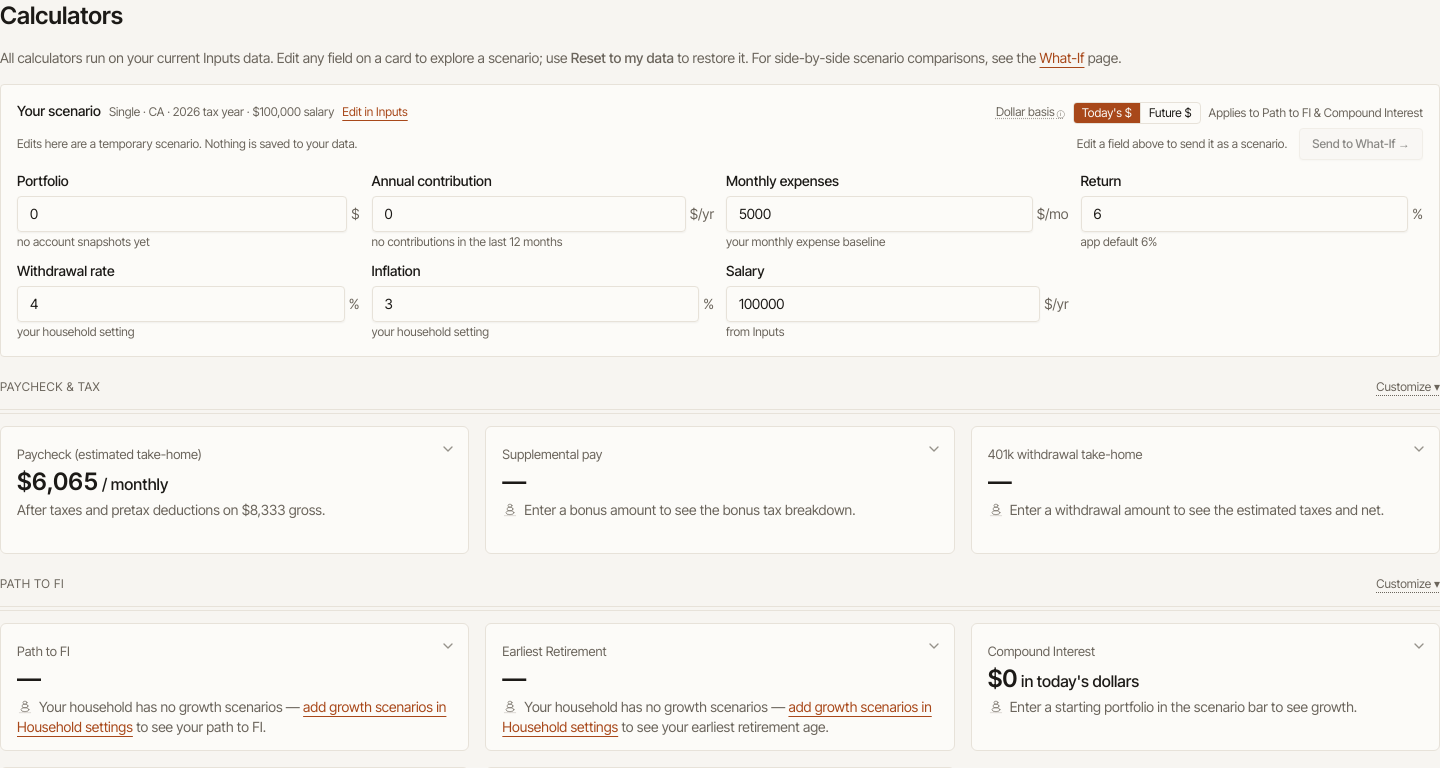
Scenario: CalculatorsLayout › per-section Customize (replaces Manage cards — D11/D12) › disables the Overtime row with a reason when no hourly/OT person exists (W10 survives)
The image size is (1440, 768).
Expected: the element with test id "calc-card-paycheck" is shown, [0,426,469,554]
Click the button with aria-label "customize paycheck & tax" at (1408,386), box [1376,378,1439,394]
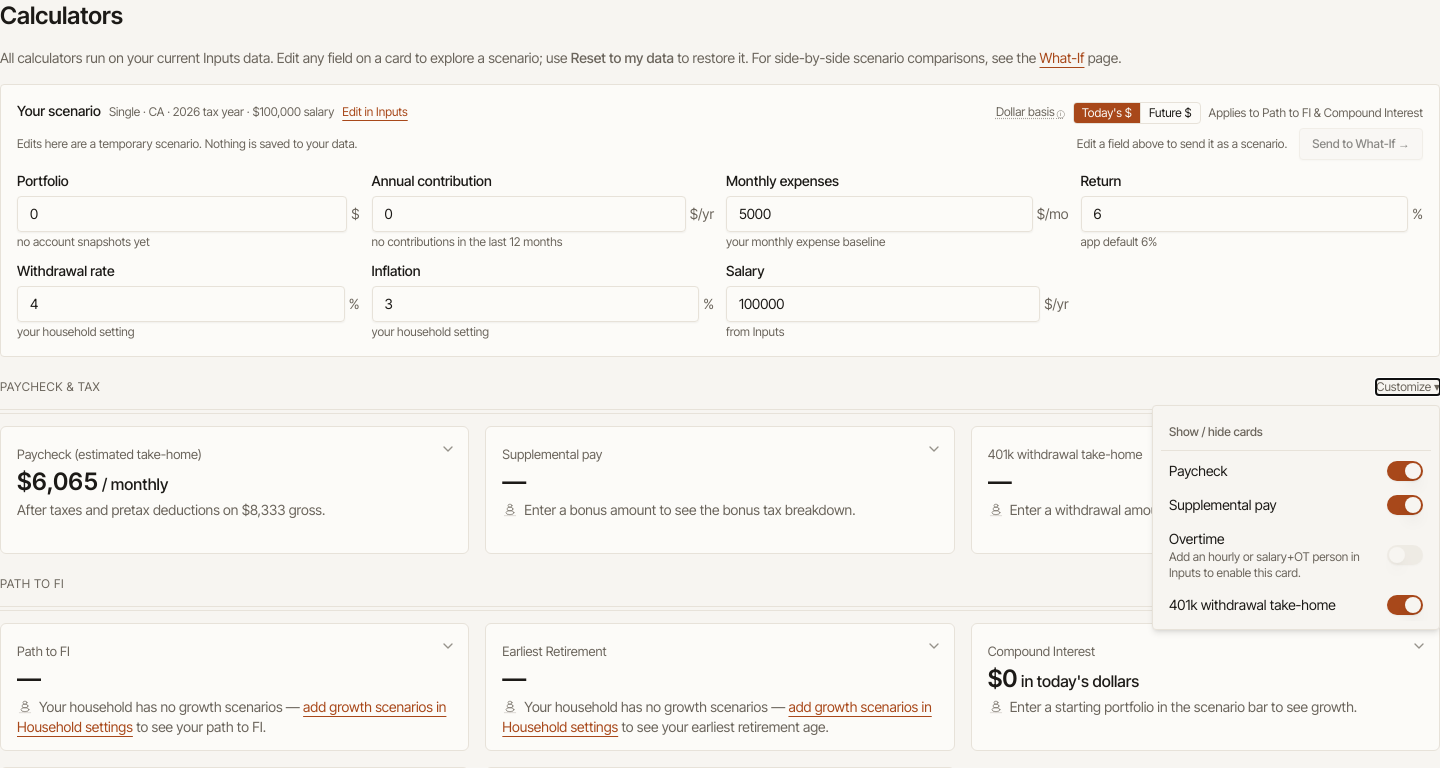
Expected: the text "Add an hourly or salary+OT person" is shown, [1169,548,1360,580]
